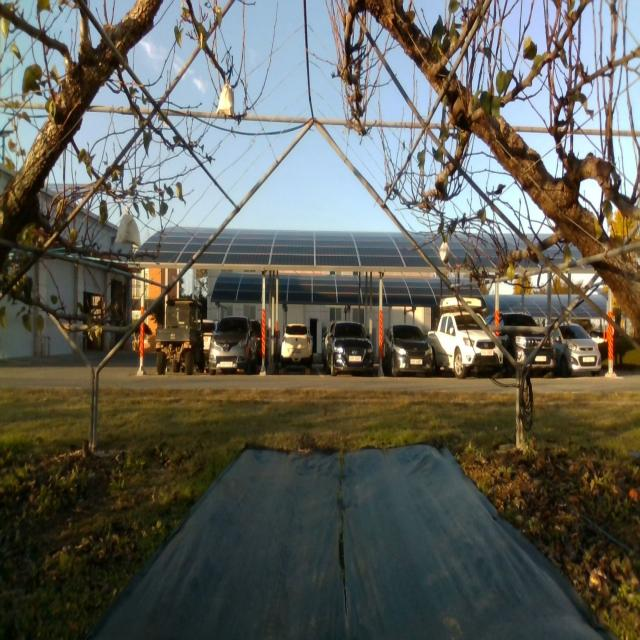pearbags: (114, 214, 140, 247), (216, 84, 234, 117), (440, 242, 450, 264)
